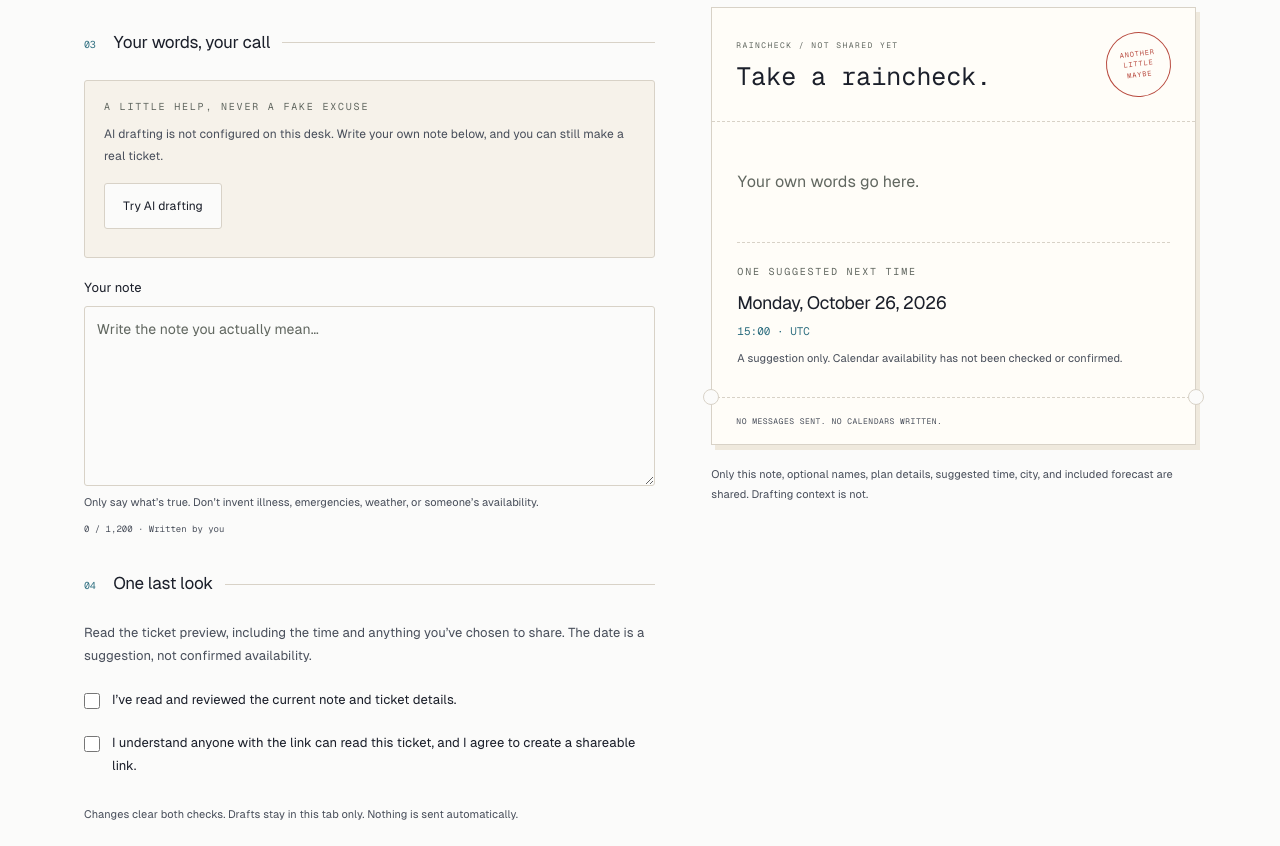
Test case: manual writing and explicit sharing › does not fake clipboard success and provides a selected manual-copy field
(page scrolled)
In the text box labelled "Your note": point(370, 396) [84,306,655,486], type "I need to move our coffee. Could we try tomorrow?"
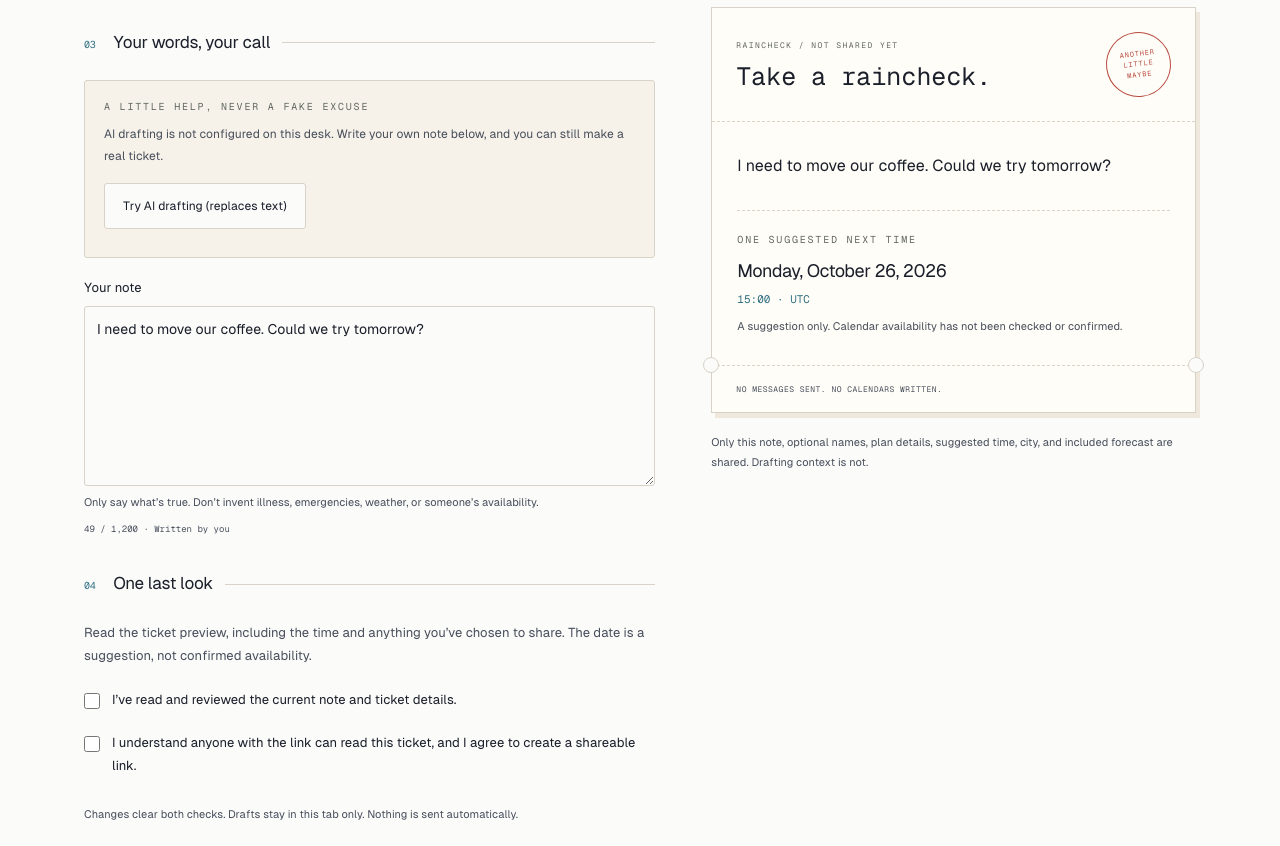
Click the checkbox labelled "I’ve read and reviewed the current note and ticket details.": point(92, 701) [84,693,100,709]
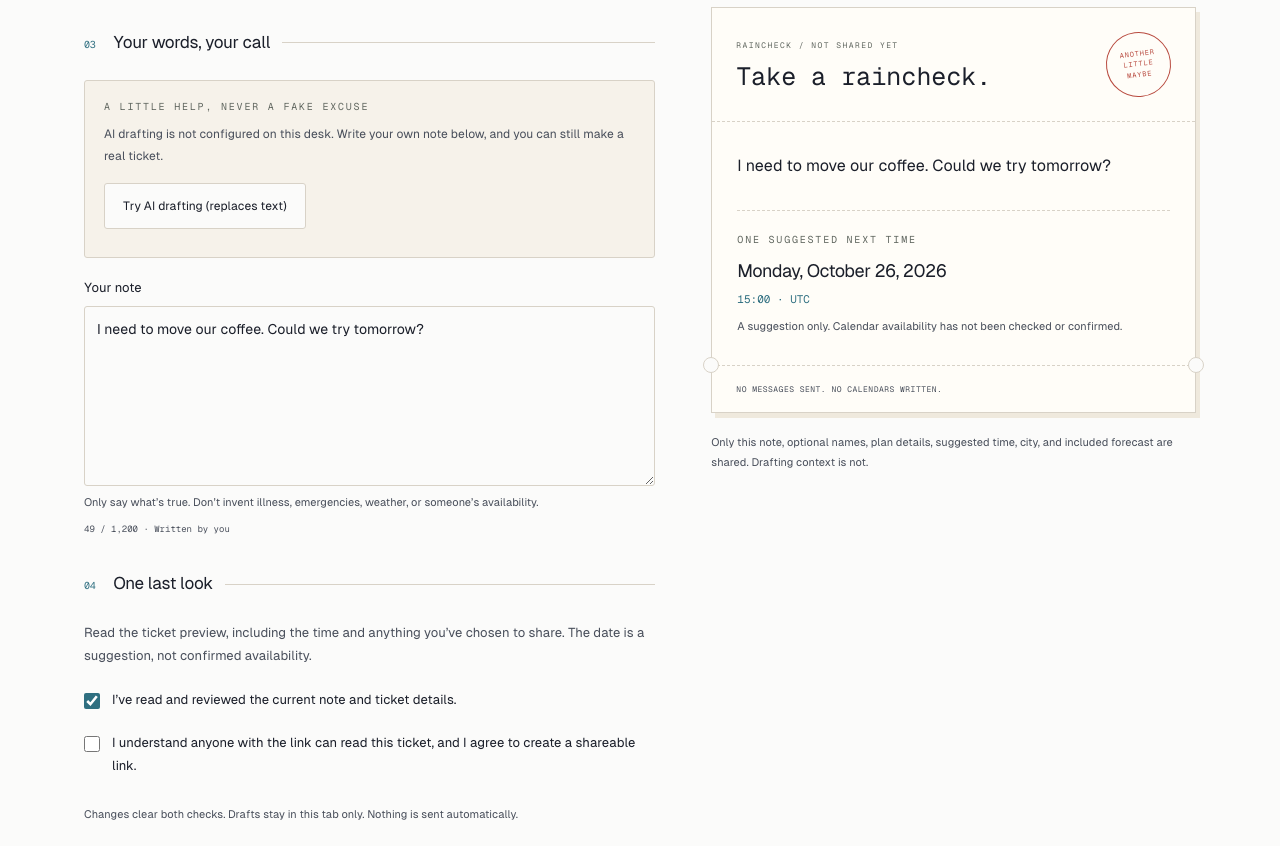
Click the checkbox labelled "anyone with the link": point(92, 744) [84,736,100,752]
(page scrolled)
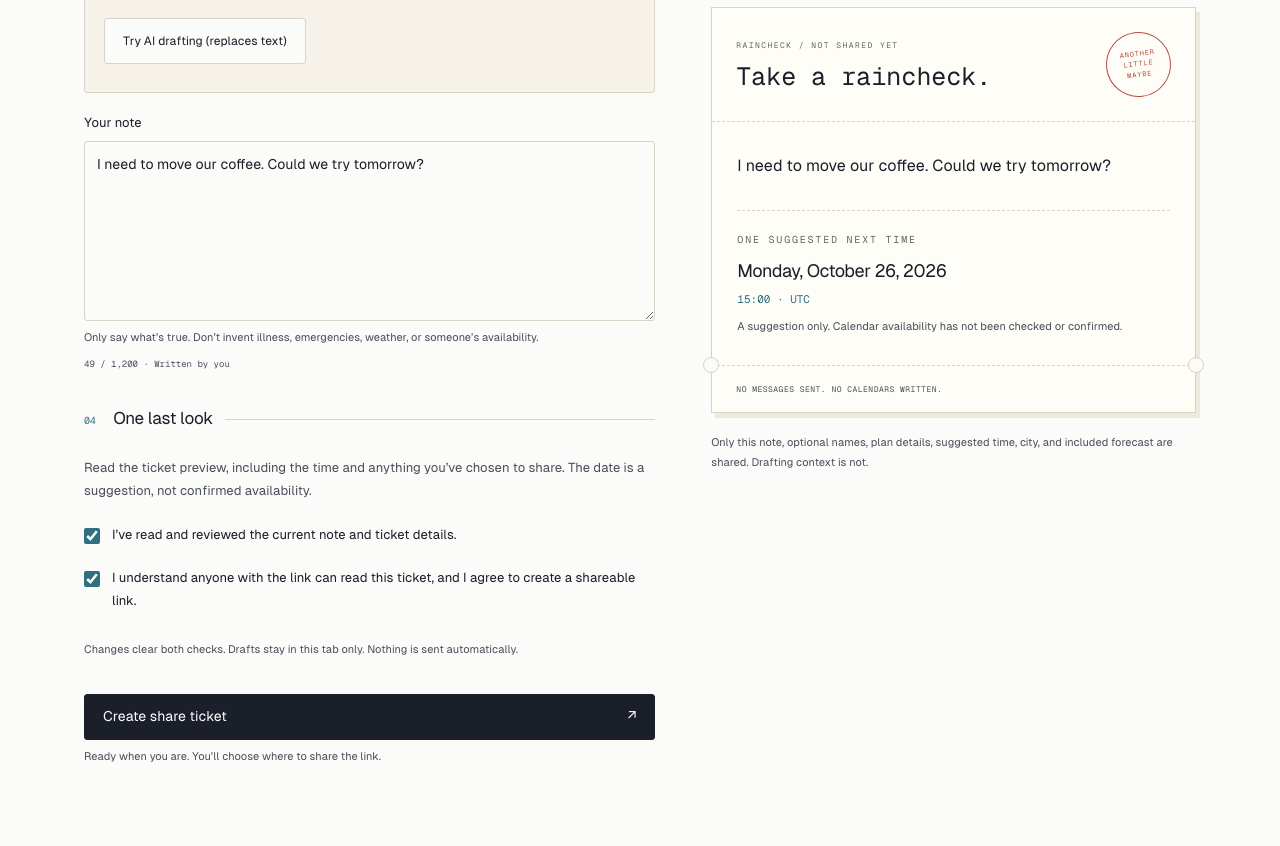
Click the button "Create share ticket ↗": point(165, 716) [84,694,655,740]
(page scrolled)
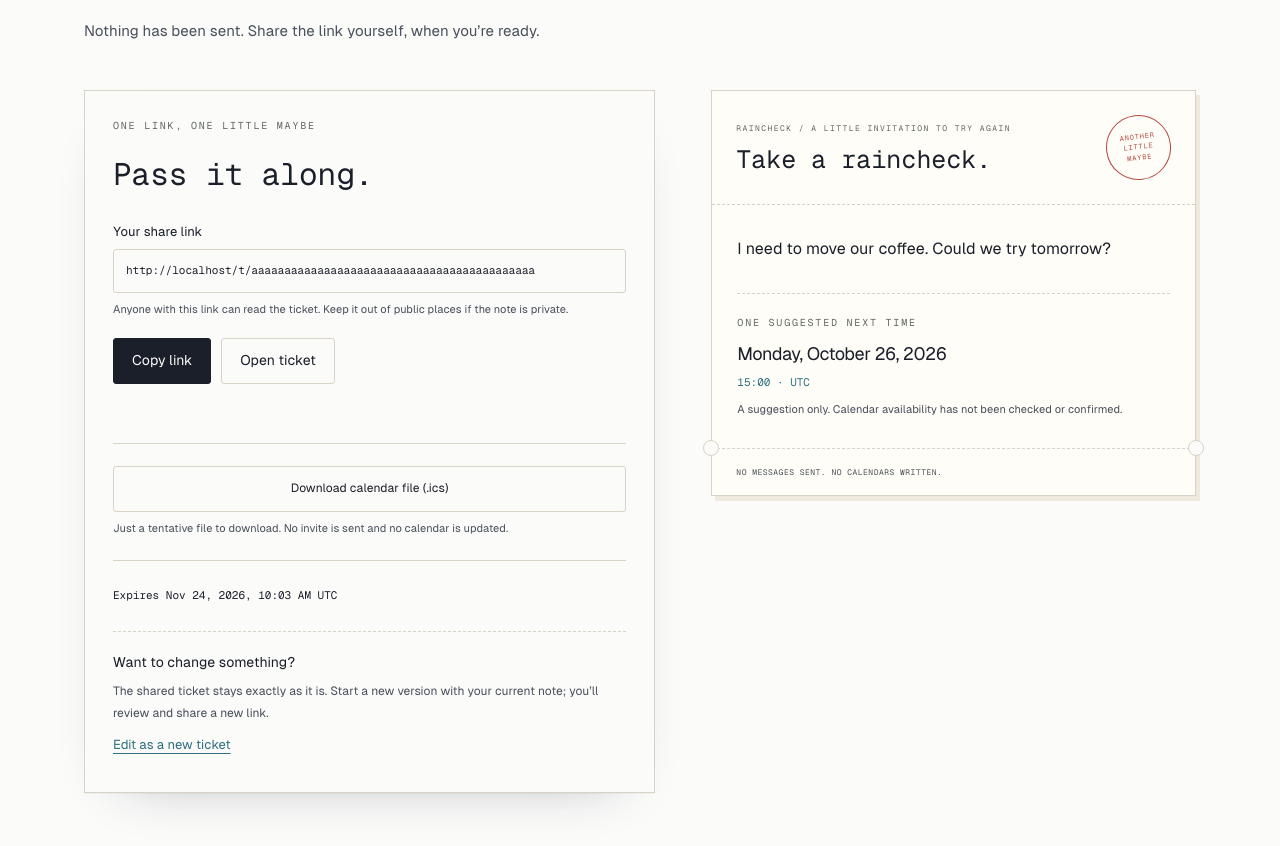
Click the button "Copy link": point(162, 361) [113,338,211,384]
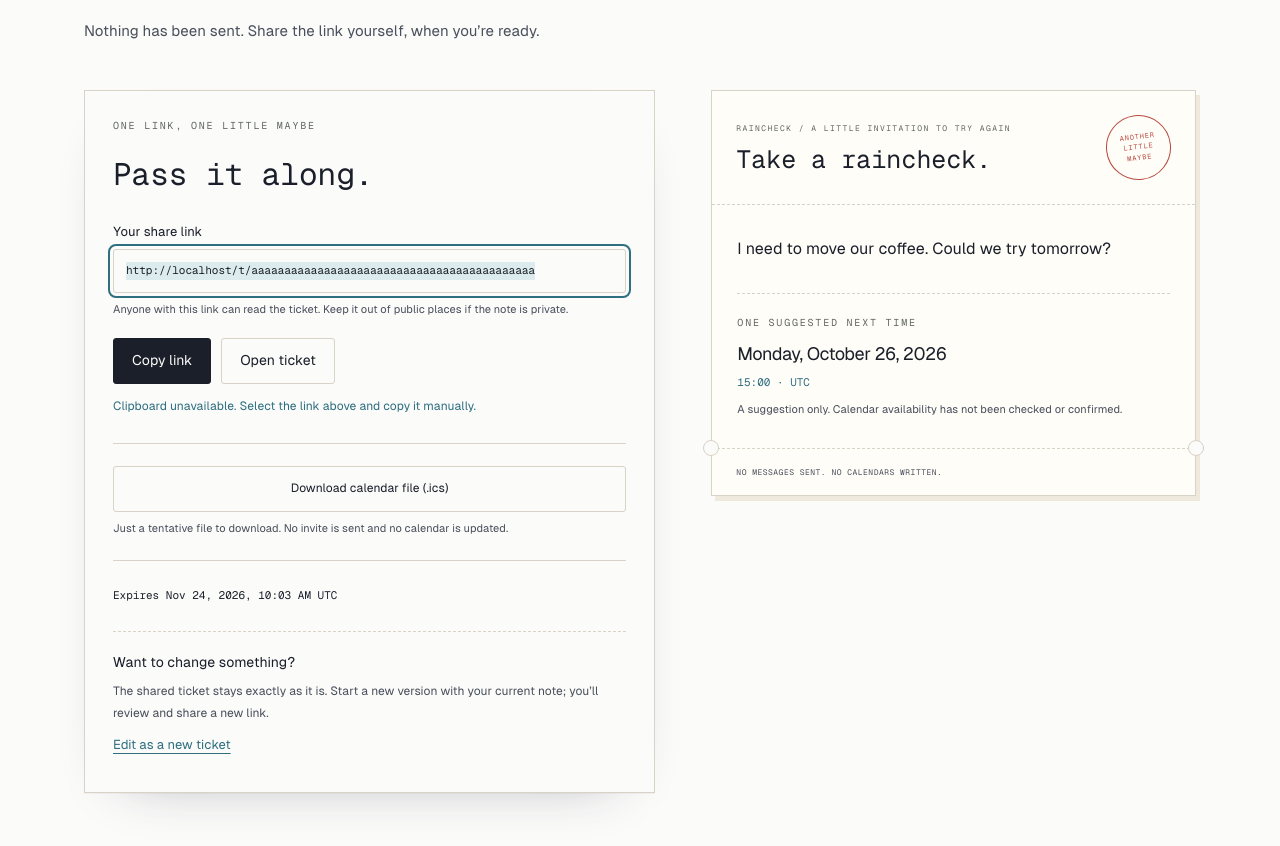
Result: the text "Clipboard unavailable. Select the link above and copy it manually." is shown at [113,399,476,413]
